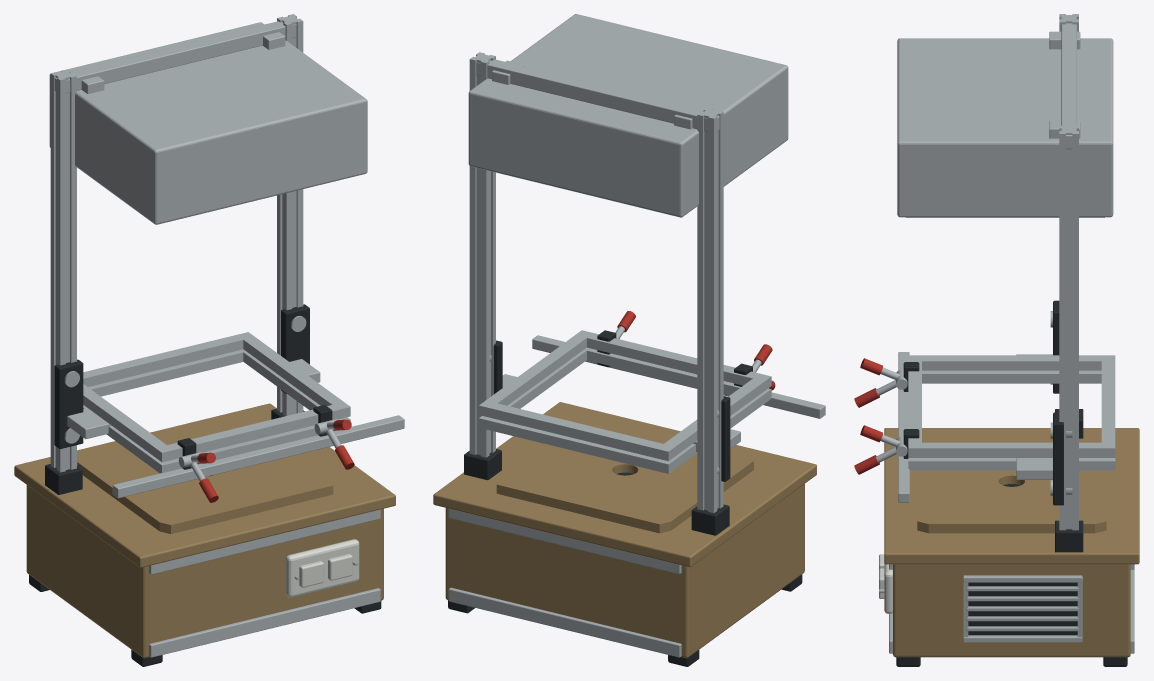
3 views of the same model, side by side, from view 1: azimuth 30°, elevation 25°; view 2: azimuth 150°, elevation 25°; view 3: azimuth 270°, elevation 25° (orthographic).
Parts seen in each view (by area): view 1: Broad closed overhead heater hood, Closed self-contained lower cabinet, Top cabinet work surface, Wide platen with actual central circular opening, Upper raised sheet clamp frame, Tall profiled guide column -1, Lower raised sheet clamp frame, Tall profiled guide column 1, Top column crossmember, Front travelling crossrail, Cabinet transverse rail (-0.266, 0.045), Cabinet transverse rail (-0.266, 0.255) (+5 smaller); view 2: Broad closed overhead heater hood, Closed self-contained lower cabinet, Top cabinet work surface, Wide platen with actual central circular opening, Tall profiled guide column -1, Upper raised sheet clamp frame, Tall profiled guide column 1, Lower raised sheet clamp frame, Top column crossmember, Cabinet transverse rail (0.266, 0.045), Cabinet transverse rail (0.266, 0.255), Front travelling crossrail (+3 smaller); view 3: Broad closed overhead heater hood, Top cabinet work surface, Closed self-contained lower cabinet, Wide platen with actual central circular opening, Upper raised sheet clamp frame, Tall profiled guide column 1, Lower raised sheet clamp frame, Side vent dark backing, Top column crossmember, Front travelling crossrail, Original moving side carriage 1, Vent perimeter horizontal 0.23 (+9 smaller).
Part boxes in pixels (x1,y1,x2,y2): Broad closed overhead heater hood: (49,22,367,224); Closed self-contained lower cabinet: (26,485,383,658); Top cabinet work surface: (14,403,395,567); Wide platen with actual central circular opening: (77,417,333,533); Upper raised sheet clamp frame: (83,332,350,462); Tall profiled guide column -1: (50,69,76,472); Lower raised sheet clamp frame: (83,349,350,473); Tall profiled guide column 1: (277,14,303,416); Top column crossmember: (54,21,296,93); Front travelling crossrail: (112,415,404,498); Cabinet transverse rail (-0.266, 0.045): (149,588,380,657); Cabinet transverse rail (-0.266, 0.255): (149,509,380,574); Broad closed overhead heater hood: (468,14,788,217); Closed self-contained lower cabinet: (445,484,804,658); Top cabinet work surface: (433,402,816,567); Wide platen with actual central circular opening: (496,415,753,533); Tall profiled guide column -1: (697,107,723,512); Upper raised sheet clamp frame: (479,330,771,461); Tall profiled guide column 1: (469,52,495,457); Lower raised sheet clamp frame: (479,347,771,473); Top column crossmember: (476,59,719,131); Cabinet transverse rail (0.266, 0.045): (448,587,681,657); Cabinet transverse rail (0.266, 0.255): (448,508,681,574); Front travelling crossrail: (532,335,825,418); Broad closed overhead heater hood: (897,38,1113,217); Top cabinet work surface: (884,428,1139,564); Closed self-contained lower cabinet: (893,564,1130,657); Wide platen with actual central circular opening: (917,438,1106,533); Upper raised sheet clamp frame: (908,355,1115,457); Tall profiled guide column 1: (1059,125,1078,530); Lower raised sheet clamp frame: (908,370,1115,470); Side vent dark backing: (968,582,1077,635); Top column crossmember: (1061,23,1076,149); Front travelling crossrail: (898,352,909,502); Original moving side carriage 1: (1053,412,1063,505); Vent perimeter horizontal 0.23: (963,575,1082,582).
Size of the model in its own units: 76 by 134 by 64.78.
